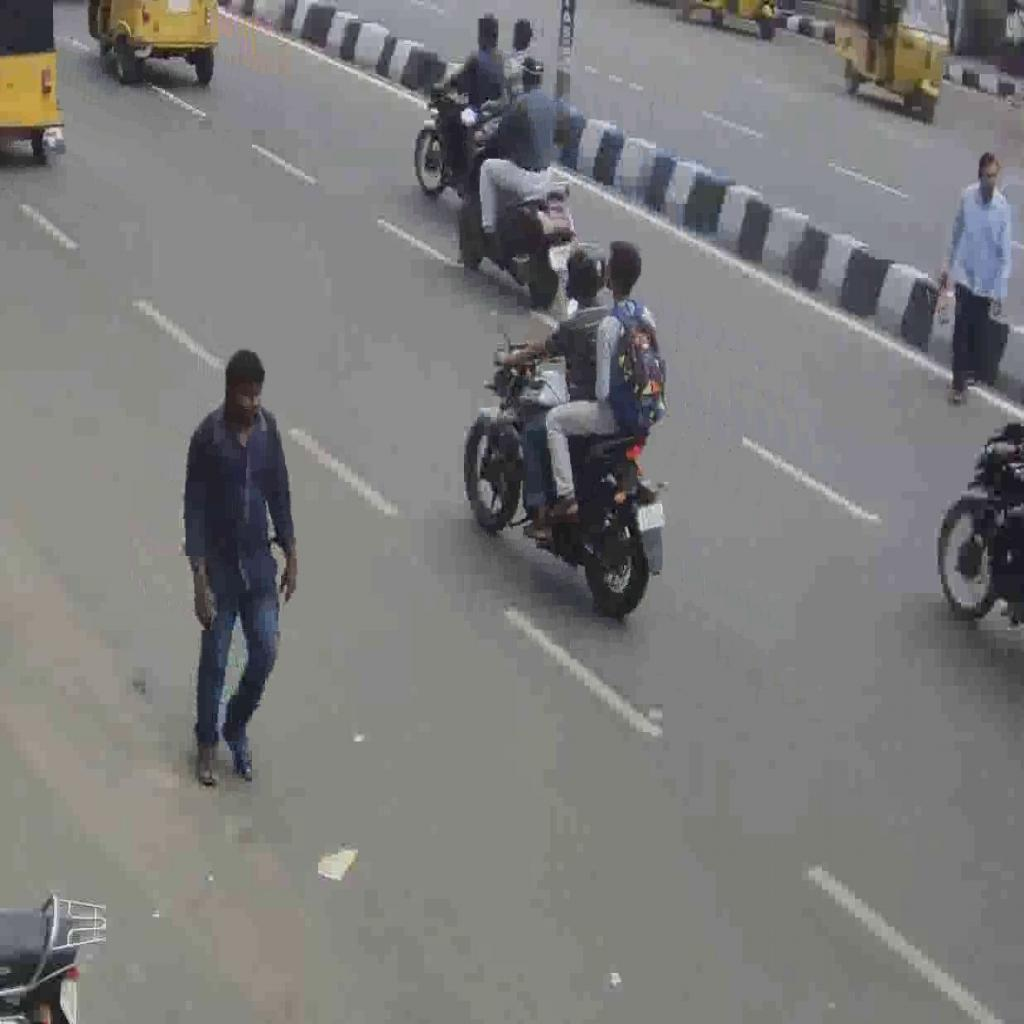helmet: (463, 340, 670, 620), (457, 108, 576, 307)
